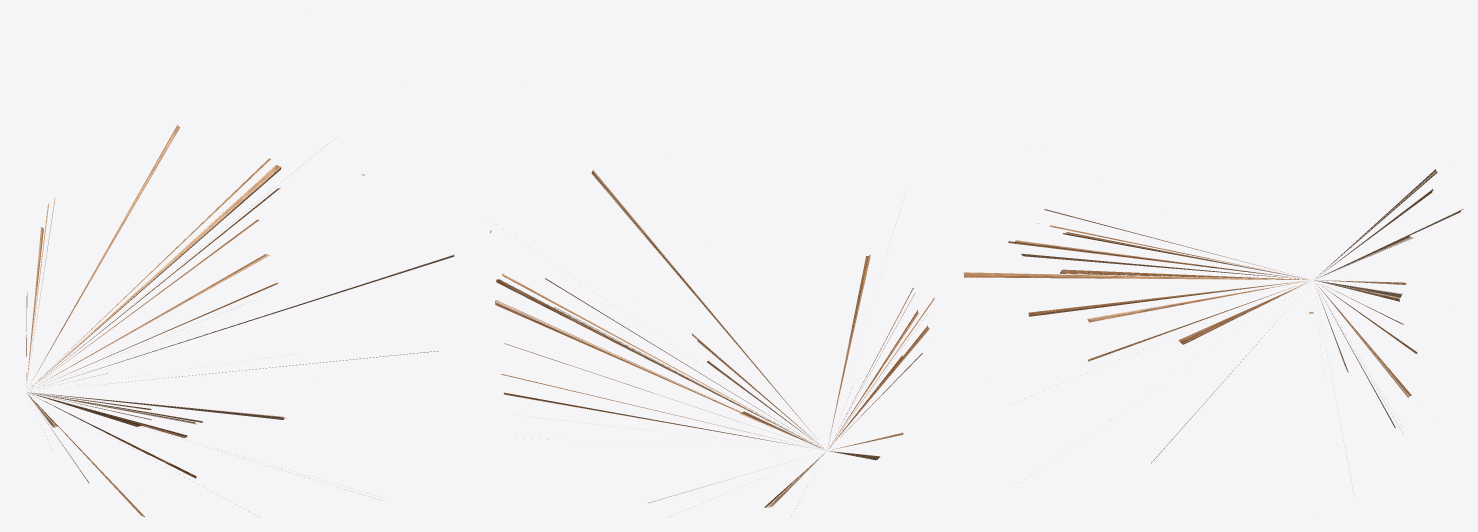
The model's file is prop_basket_01.glb.
The picture shows the model from 3 angles, left to right: view 1: azimuth 30°, elevation 25°; view 2: azimuth 150°, elevation 25°; view 3: azimuth 270°, elevation 25°; orthographic projection. The views are drawn at different scales.
Visible parts, largest first — view 1: geometry_0; view 2: geometry_0; view 3: geometry_0.
Part boxes in pixels (x1,y1,x2,y2): geometry_0: (26, 125, 454, 517); geometry_0: (490, 170, 934, 517); geometry_0: (963, 169, 1462, 497).
Size of the model in its own units: 0.8315 by 0.932 by 0.871.
Materials: 1 (1 with a texture image).
